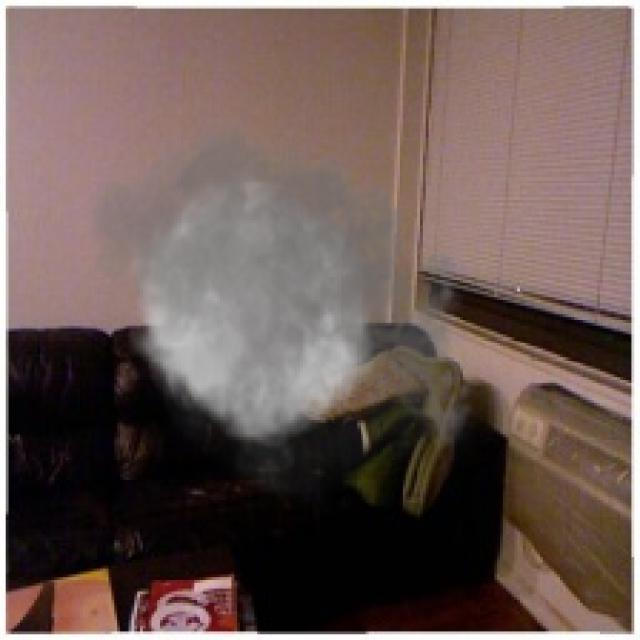smoke: (71, 100, 486, 517)
